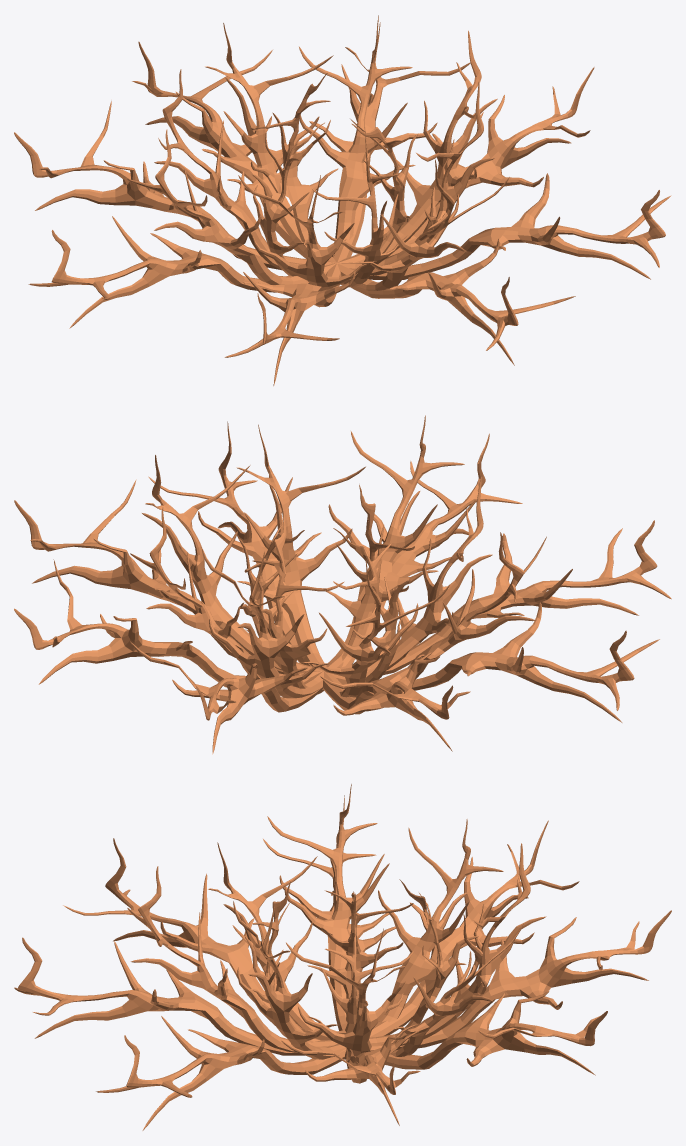
File: DryBush.fbx
The picture shows the model from 3 angles, top to bottom: view 1: azimuth 30°, elevation 25°; view 2: azimuth 150°, elevation 25°; view 3: azimuth 270°, elevation 25°; orthographic projection. The views are drawn at different scales.
Parts seen in each view (by area): view 1: Cube.011, Cube.008, Cube.010, Cube.005, Cube.003, Cube.006, Cube.009, Cube.002, Cube.001, Cube; view 2: Cube.009, Cube.008, Cube.006, Cube.011, Cube.002, Cube.010, Cube.005, Cube.003, Cube.001, Cube; view 3: Cube.010, Cube.009, Cube.011, Cube.002, Cube.005, Cube.006, Cube.003, Cube.008, Cube, Cube.001.
Boxes of the visible parts, x1,y1,x2,y2 form: Cube.011: [14, 101, 671, 279]; Cube.008: [28, 67, 594, 328]; Cube.010: [132, 41, 575, 365]; Cube.005: [127, 30, 497, 284]; Cube.003: [238, 22, 415, 290]; Cube.006: [205, 23, 509, 290]; Cube.009: [224, 15, 470, 386]; Cube.002: [154, 69, 494, 275]; Cube.001: [250, 73, 407, 287]; Cube: [252, 119, 418, 276]; Cube.009: [14, 520, 671, 687]; Cube.008: [14, 479, 659, 722]; Cube.006: [202, 415, 464, 698]; Cube.011: [148, 421, 470, 751]; Cube.002: [236, 424, 449, 697]; Cube.010: [130, 433, 522, 754]; Cube.005: [142, 455, 546, 679]; Cube.003: [130, 476, 492, 685]; Cube.001: [245, 484, 414, 694]; Cube: [238, 524, 410, 686]; Cube.010: [14, 910, 671, 1055]; Cube.009: [63, 838, 607, 1075]; Cube.011: [96, 820, 579, 1130]; Cube.002: [233, 819, 503, 1059]; Cube.005: [267, 784, 417, 1068]; Cube.006: [127, 843, 546, 1052]; Cube.003: [208, 842, 523, 1056]; Cube.008: [263, 795, 420, 1125]; Cube: [307, 890, 413, 1061]; Cube.001: [244, 879, 478, 1042].
Bounding box in the file's own units: 633 × 212 × 633.
